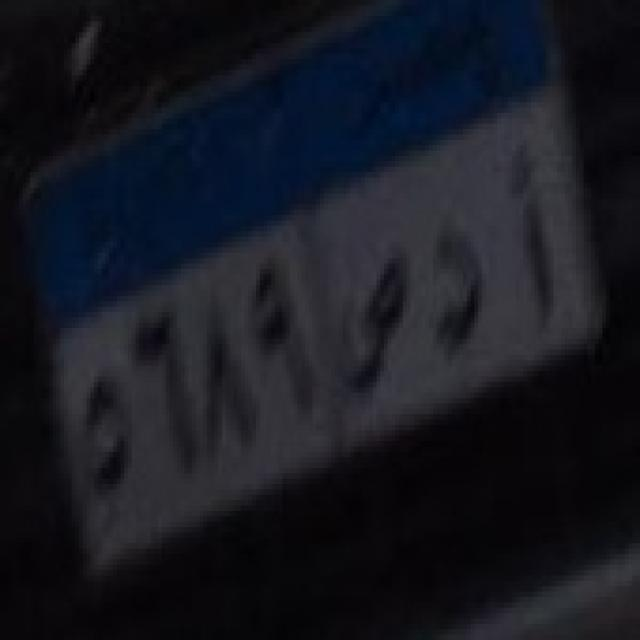5: (81, 369, 130, 501)
6: (131, 296, 201, 479)
8: (198, 281, 253, 474)
9: (250, 250, 320, 420)
Saad: (330, 240, 413, 404)
alef: (504, 126, 566, 336)
daal: (424, 206, 492, 364)
